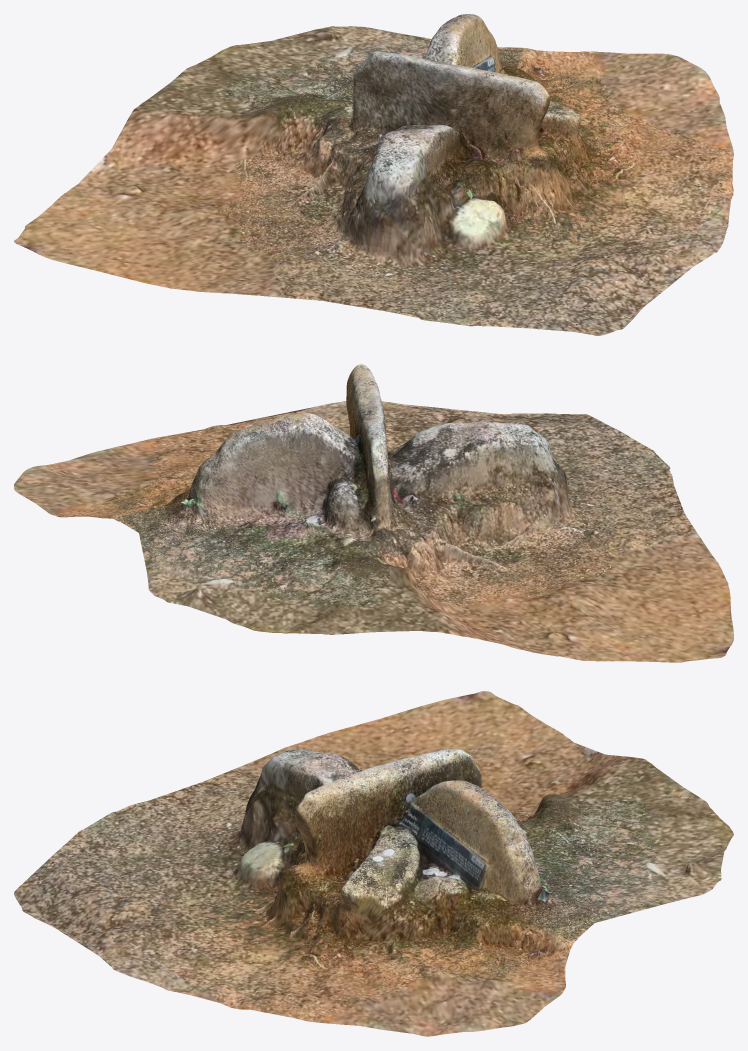
File: kesucian.glb
3 renders of one model, top to bottom at view 1: azimuth 30°, elevation 25°; view 2: azimuth 150°, elevation 25°; view 3: azimuth 270°, elevation 25°, orthographic. The views are drawn at different scales.
Visible parts, largest first — view 1: mesh; view 2: mesh; view 3: mesh.
Boxes of the visible parts, bbox=[...] form: mesh: bbox=[14, 14, 733, 335]; mesh: bbox=[14, 364, 733, 662]; mesh: bbox=[14, 691, 733, 1036].
Bounding box in the file's own units: 1.93 × 0.3787 × 1.68.
1 material, 1 textured.
